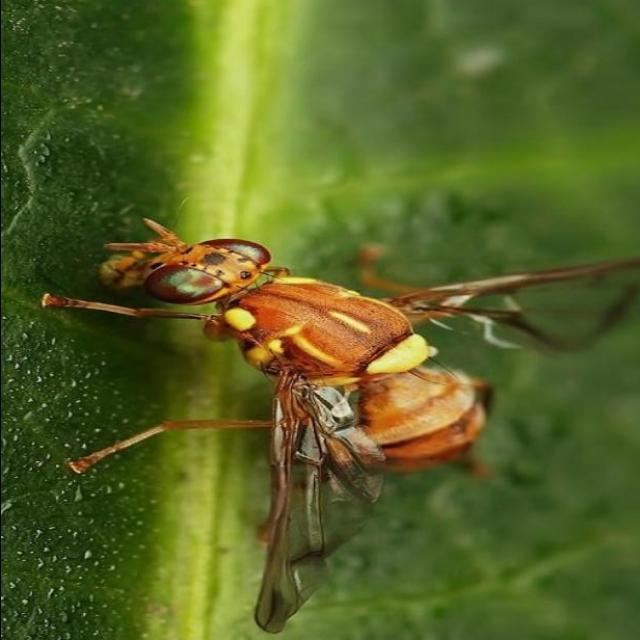Fruit fly: (30, 204, 640, 639)
